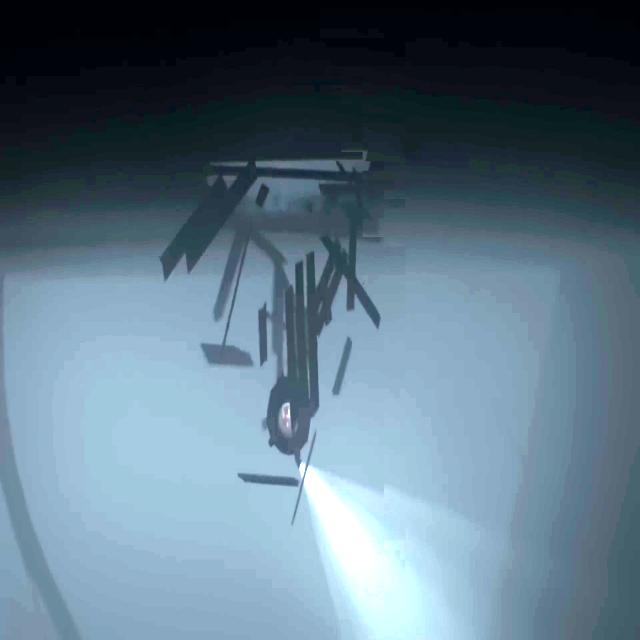boy: (283, 405, 290, 430)
submarine: (262, 373, 310, 469)
